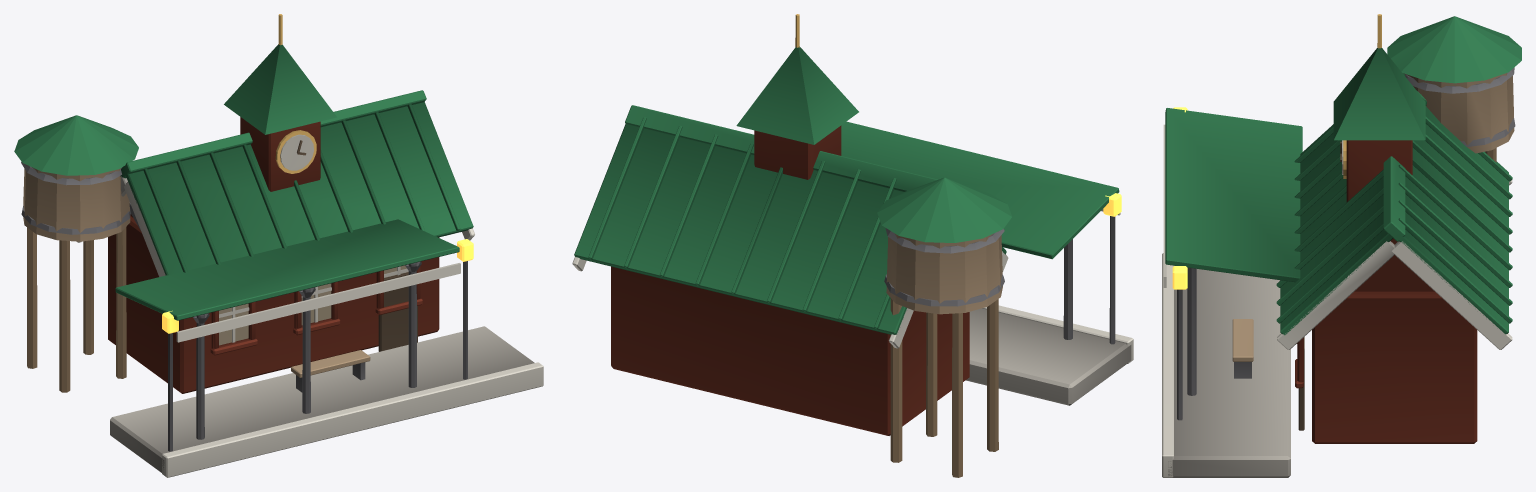
Rendered from bld_station_e2.glb.
3 views of the same model, side by side, from view 1: azimuth 30°, elevation 25°; view 2: azimuth 150°, elevation 25°; view 3: azimuth 270°, elevation 25° (orthographic). The views are drawn at different scales.
Visible parts, largest first — view 1: station; view 2: station; view 3: station.
Part boxes in pixels (bbox=[...]): station: bbox=[14, 14, 543, 477]; station: bbox=[572, 14, 1133, 477]; station: bbox=[1162, 14, 1521, 477].
Size of the model in its own units: 1.65 by 1.38 by 1.2.
